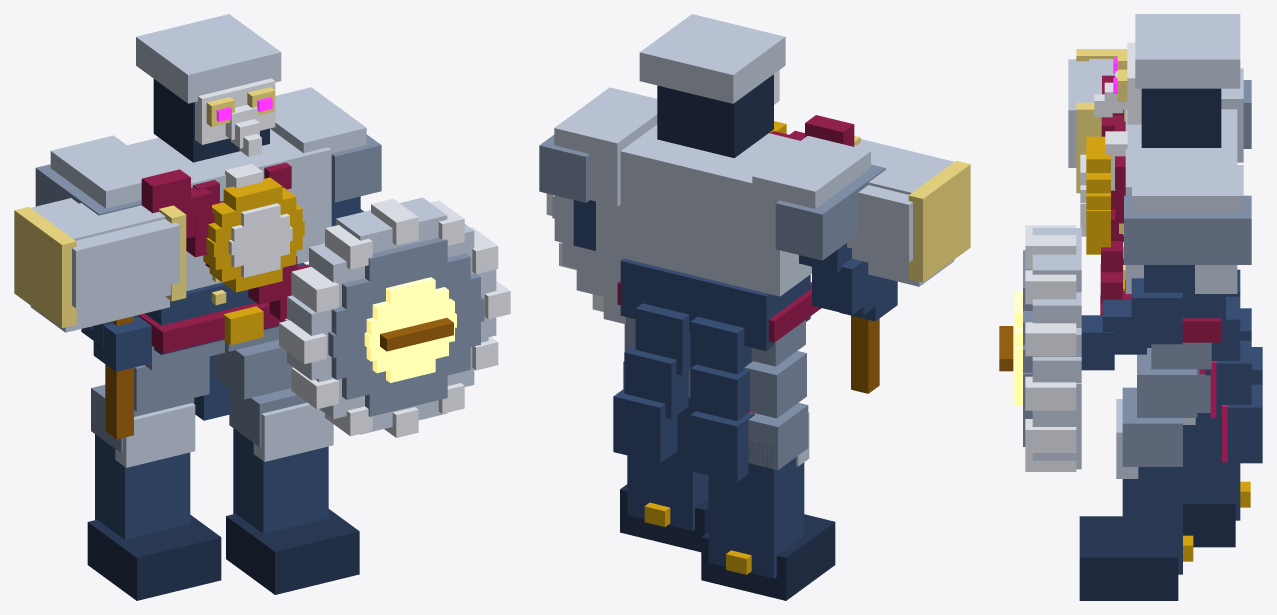
Rendered from syndicate-vault-enforcer.glb.
The picture shows the model from 3 angles, left to right: view 1: azimuth 30°, elevation 25°; view 2: azimuth 150°, elevation 25°; view 3: azimuth 270°, elevation 25°; orthographic projection.
Visible parts, largest first — view 1: Boots, VaultShield, Pauldrons, GearTeeth, OctagonalHammer, Trousers, Helmet, CoinChest, Vest, Greaves, HammerBand, Rings (+13 smaller); view 2: Vest, Boots, Pauldrons, Coattails, Helmet, OctagonalHammer, Trousers, Waist, Hood, HammerBand, Sleeves, VaultShield (+4 smaller); view 3: Boots, Pauldrons, Trousers, GearTeeth, Helmet, Sleeves, VaultShield, Coattails, Hood, Vest, CoinChest, OctagonalHammer (+13 smaller).
Boxes of the visible parts, box(x1,y1,x2,y2) form: Boots: box(87, 428, 359, 600); VaultShield: box(284, 197, 496, 434); Pauldrons: box(35, 87, 381, 215); GearTeeth: box(279, 199, 510, 437); OctagonalHammer: box(30, 198, 180, 332); Trousers: box(91, 326, 306, 452); Helmet: box(136, 14, 281, 103); CoinChest: box(203, 177, 304, 292); Vest: box(127, 129, 331, 290); Greaves: box(115, 402, 333, 467); HammerBand: box(14, 205, 186, 328); Rings: box(364, 277, 456, 382); Vest: box(596, 124, 811, 296); Boots: box(620, 398, 835, 600); Pauldrons: box(539, 87, 885, 260); Coattails: box(613, 303, 754, 481); Helmet: box(639, 14, 785, 103); OctagonalHammer: box(847, 139, 954, 286); Trousers: box(623, 317, 808, 470); Waist: box(620, 258, 810, 350); Hood: box(657, 74, 773, 158); HammerBand: box(854, 136, 970, 282); Sleeves: box(573, 200, 897, 321); VaultShield: box(552, 195, 625, 323); Boots: box(1079, 413, 1240, 600); Pauldrons: box(1124, 68, 1251, 264); Trousers: box(1122, 342, 1211, 466); GearTeeth: box(1025, 225, 1076, 471); Helmet: box(1135, 14, 1240, 88); Sleeves: box(1081, 235, 1194, 370); VaultShield: box(1023, 228, 1081, 469); Coattails: box(1205, 269, 1262, 463); Hood: box(1141, 88, 1221, 147); Vest: box(1125, 109, 1237, 293); CoinChest: box(1080, 136, 1110, 254); OctagonalHammer: box(1068, 59, 1115, 167).
Size of the model in its own units: 1.59 by 1.85 by 0.8547.
